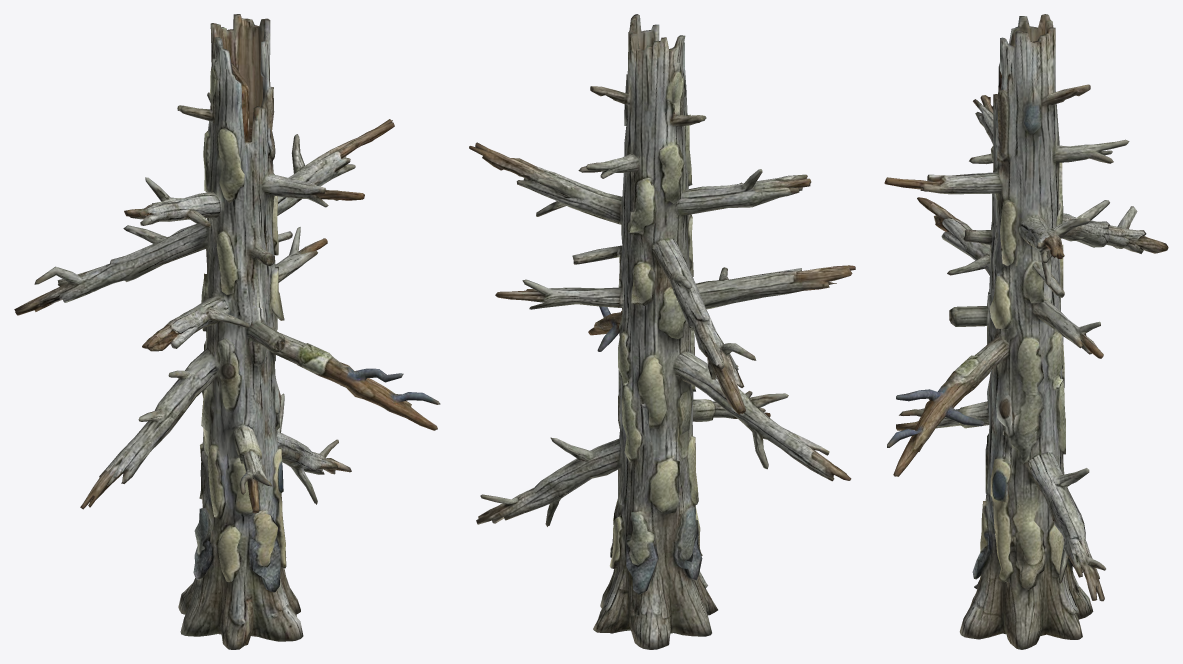
Rendered from tr_snag.glb.
3 renders of one model, left to right at view 1: azimuth 30°, elevation 25°; view 2: azimuth 150°, elevation 25°; view 3: azimuth 270°, elevation 25°, orthographic.
Visible parts, largest first — view 1: tr_snag; view 2: tr_snag; view 3: tr_snag.
Boxes of the visible parts, <box> form: tr_snag: <box>14,14,440,649</box>; tr_snag: <box>469,14,855,649</box>; tr_snag: <box>884,14,1168,649</box>.
Bounding box in the file's own units: 6.09 × 10 × 4.29.
Materials: 1 (1 with a texture image).
